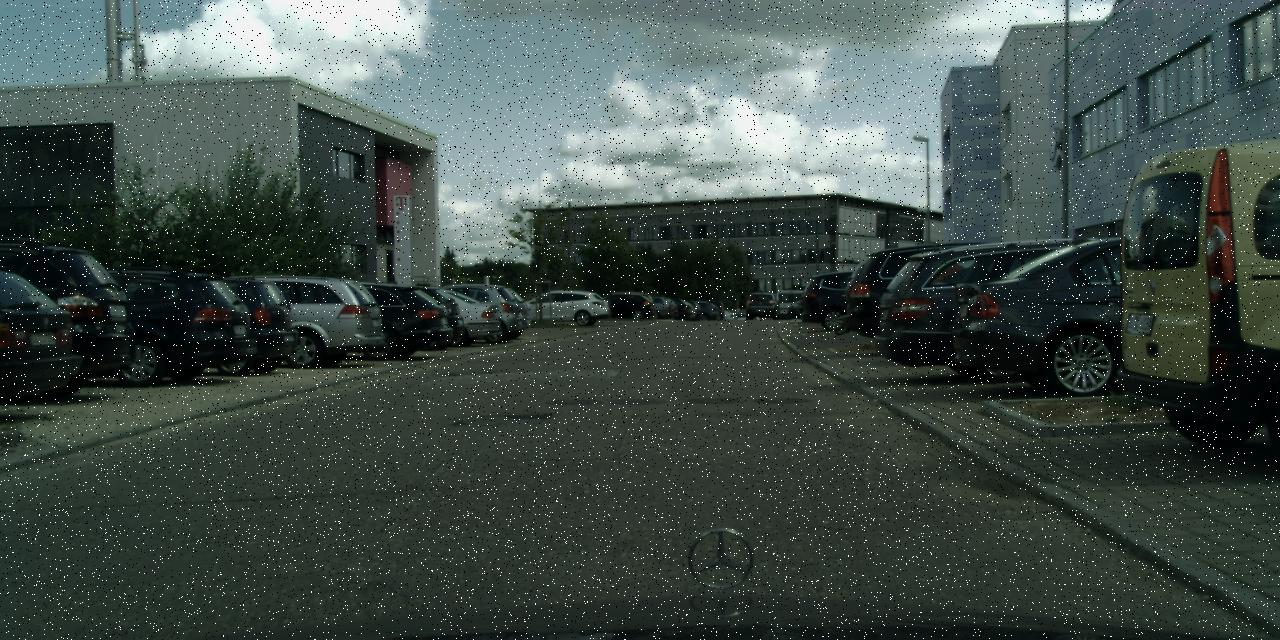ped: (446, 274, 462, 312)
